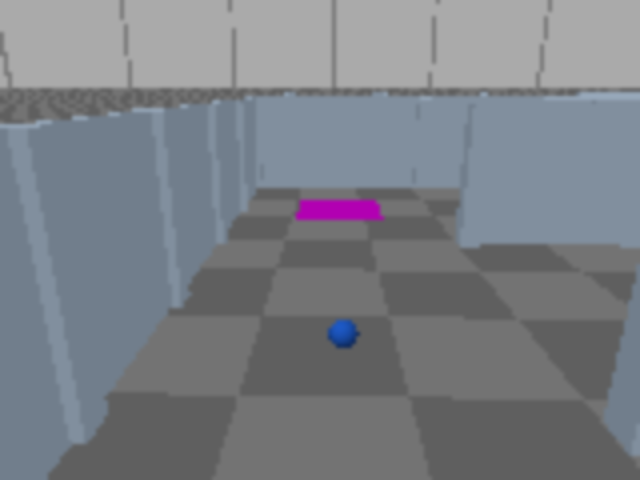goal_zone: (296, 199, 384, 221)
puck: (328, 314, 360, 354)
